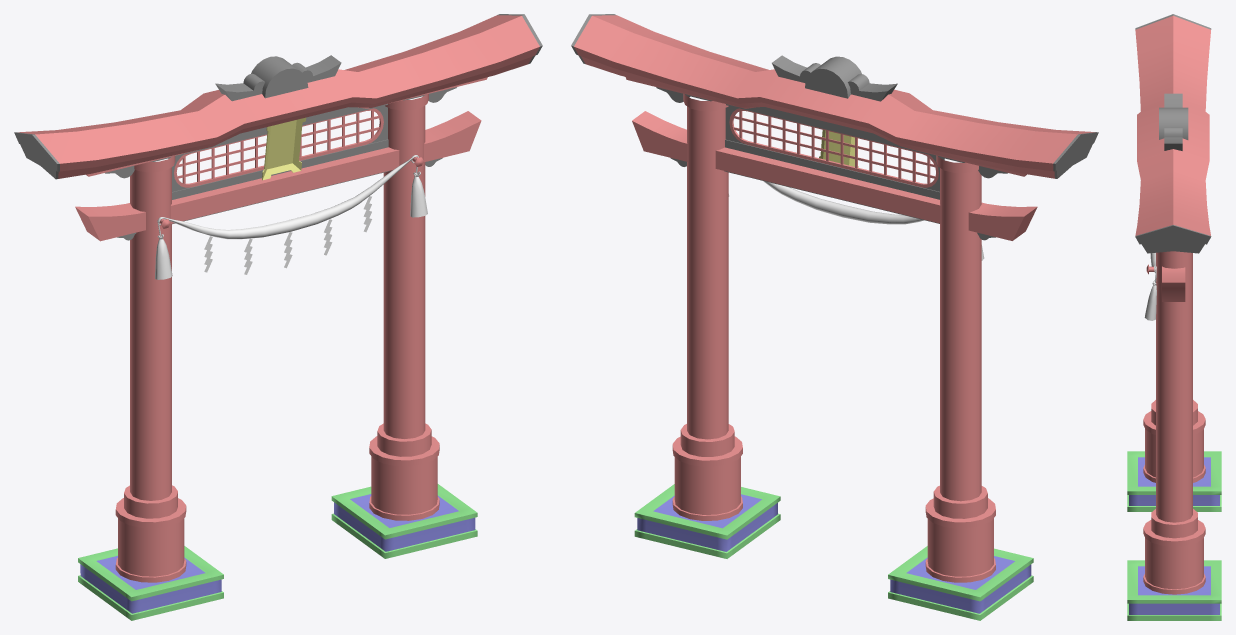
The model's file is SM_ENV_LKNVLD_Torii_Moon_Lod1.gltf.
3 renders of one model, left to right at view 1: azimuth 30°, elevation 25°; view 2: azimuth 150°, elevation 25°; view 3: azimuth 270°, elevation 25°, orthographic. The views are drawn at different scales.
Parts seen in each view (by area): view 1: SM_ENV_LKNVLD_Torii_Moon_Lod1; view 2: SM_ENV_LKNVLD_Torii_Moon_Lod1; view 3: SM_ENV_LKNVLD_Torii_Moon_Lod1.
Part boxes in pixels (x1=…): SM_ENV_LKNVLD_Torii_Moon_Lod1: x1=14, y1=14, x2=542, y2=620; SM_ENV_LKNVLD_Torii_Moon_Lod1: x1=571, y1=14, x2=1098, y2=620; SM_ENV_LKNVLD_Torii_Moon_Lod1: x1=1127, y1=14, x2=1221, y2=620.
Bounding box in the file's own units: 13.61 × 13.11 × 2.56.
